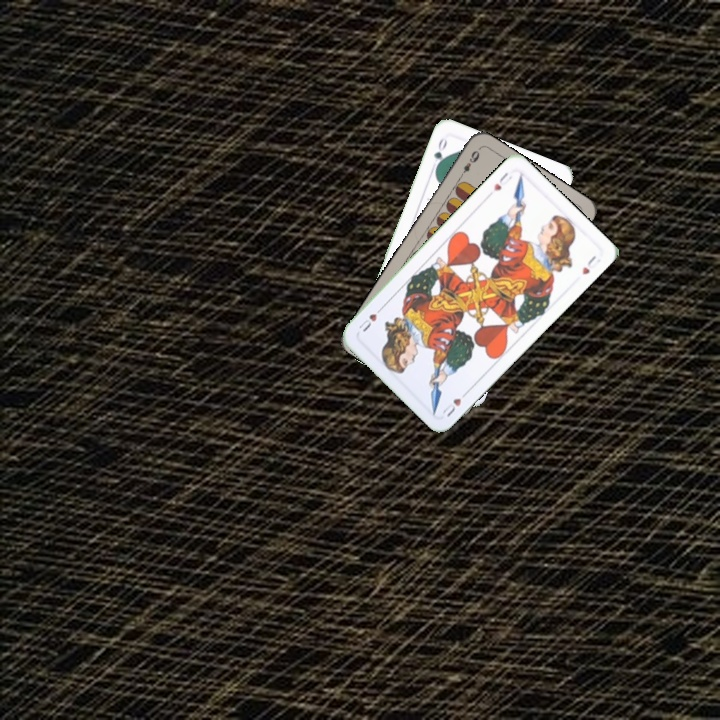E9: (455, 146, 482, 181)
GO: (430, 134, 450, 173)
HU: (437, 387, 471, 419), (489, 168, 515, 194)
